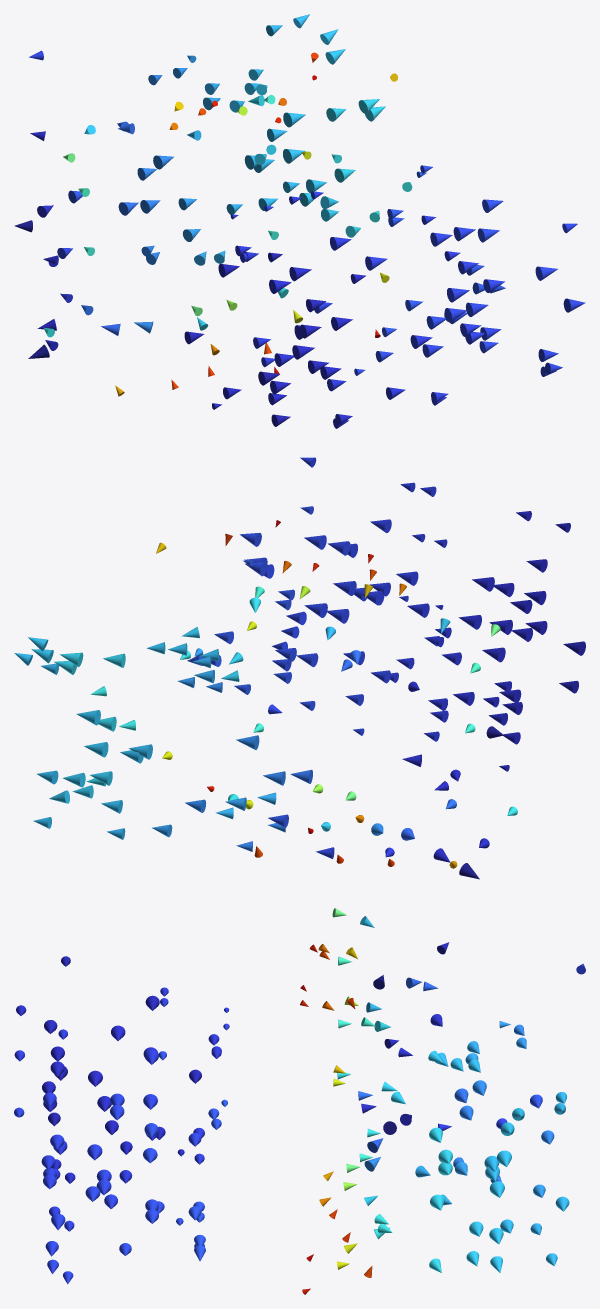
Rendered from LineasCorrienteN2-H2O_mh2-1.38_V-1.1.glb.
3 views of the same model, one above another, from view 1: azimuth 30°, elevation 25°; view 2: azimuth 150°, elevation 25°; view 3: azimuth 270°, elevation 25° (orthographic). The views are drawn at different scales.
Bounding box in the file's own units: 0.001 × 0.0007 × 0.00122.
2 materials, 2 textured.
